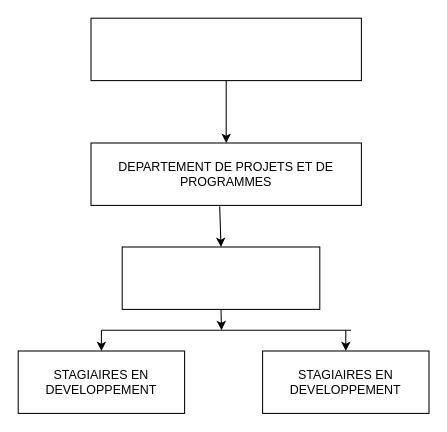
Some shapes in this 447 by 432 pixel diagram are drawn without their labels. The shapes that lost their labels are listed below. From the top down, each one's box as (x1, y1, x2, y2) in pixels, then its label:
(90, 17, 361, 81): DIRECTION DE L'ASSOCIATION
(121, 246, 320, 309): RESPONSABLE DE DEPARTEMENT
